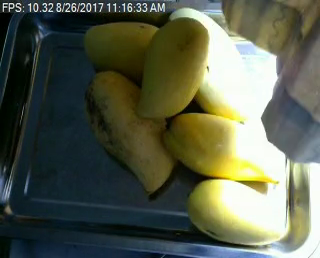Mango: (84, 72, 178, 192), (168, 7, 250, 121), (164, 113, 281, 183), (134, 17, 210, 119), (189, 178, 284, 244), (84, 22, 160, 83)
